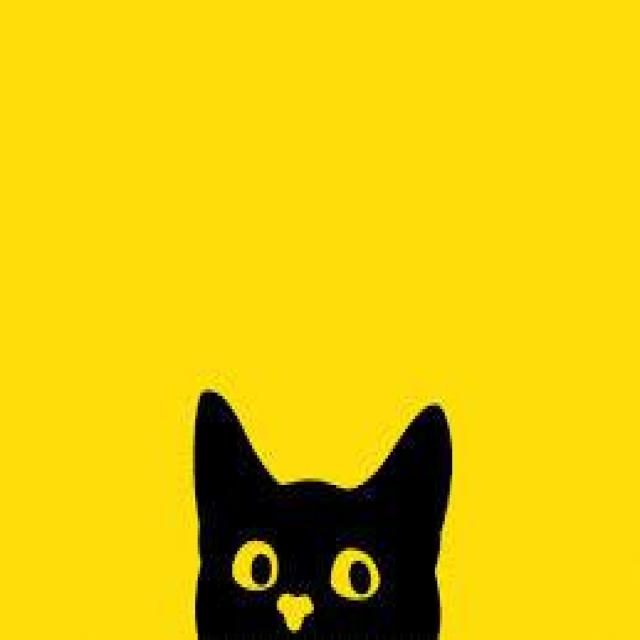cats: (190, 386, 455, 637)
